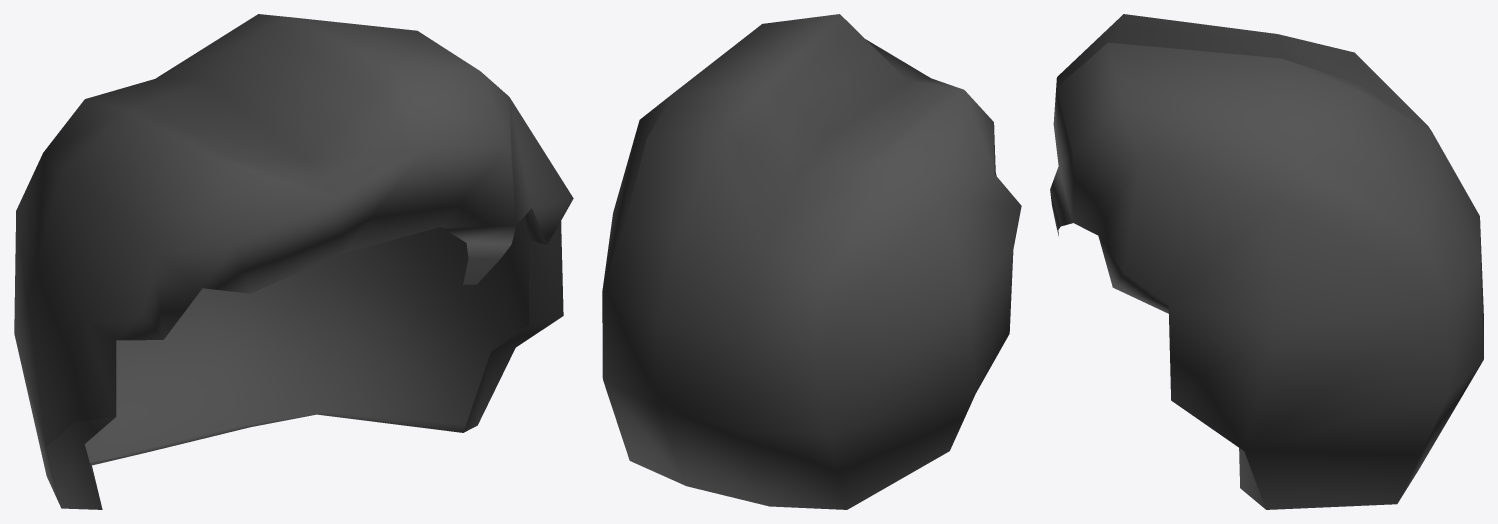
File: Attac_SupermanHair.fbx
3 renders of one model, left to right at view 1: azimuth 30°, elevation 25°; view 2: azimuth 150°, elevation 25°; view 3: azimuth 270°, elevation 25°, orthographic. The views are drawn at different scales.
Visible parts, largest first — view 1: Attac_SupermanHair; view 2: Attac_SupermanHair; view 3: Attac_SupermanHair.
Part boxes in pixels (x1,y1,x2,y2): Attac_SupermanHair: (14, 14, 573, 509); Attac_SupermanHair: (602, 14, 1021, 509); Attac_SupermanHair: (1050, 14, 1483, 509).
Size of the model in its own units: 0.7628 by 0.7551 by 0.7069.
